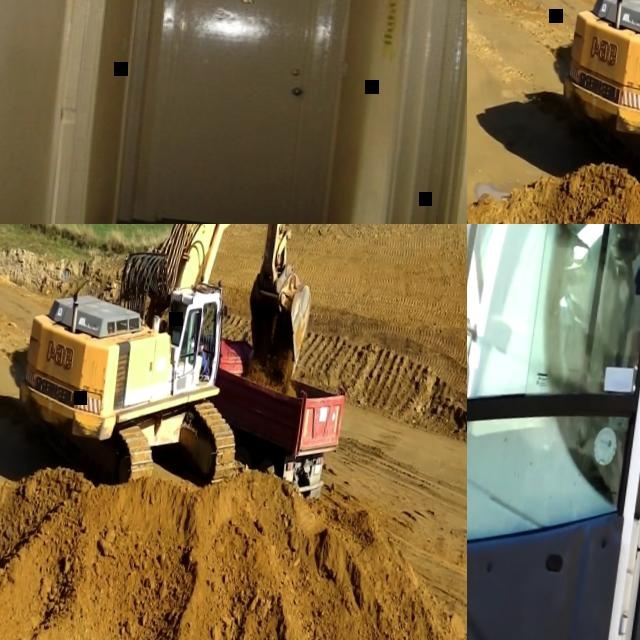Person: (185, 335, 211, 377)
machinery: (9, 224, 330, 501), (467, 224, 640, 640), (201, 337, 350, 498), (553, 0, 640, 197)
